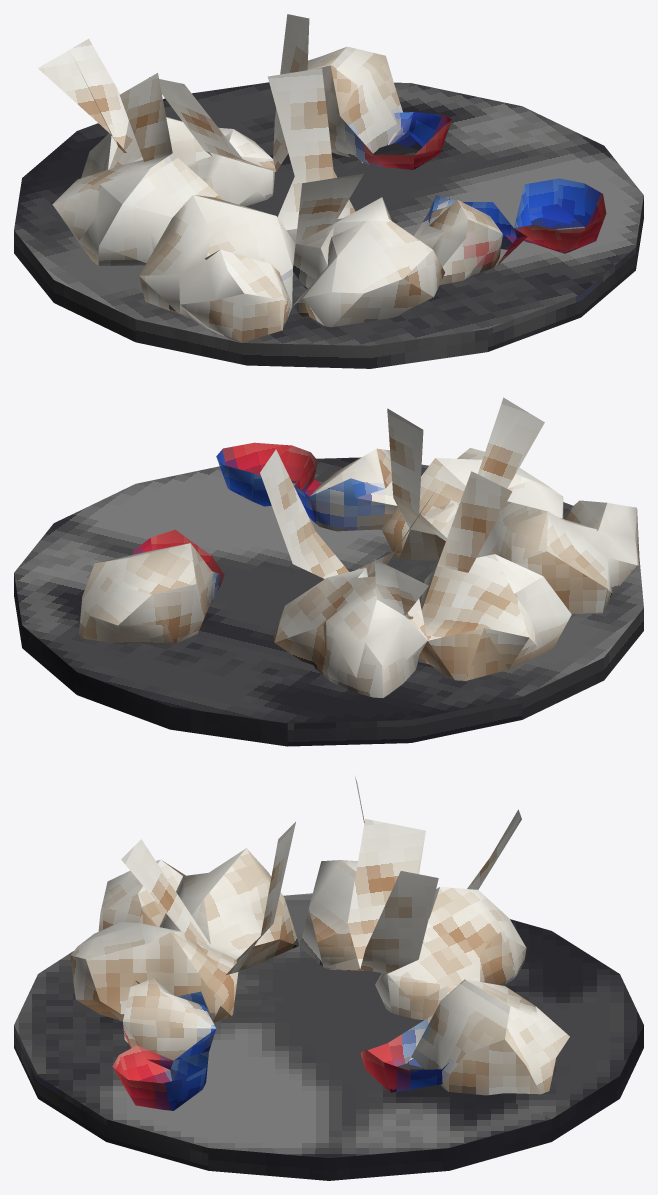
The model's file is binfill_own.glb.
The picture shows the model from 3 angles, top to bottom: view 1: azimuth 30°, elevation 25°; view 2: azimuth 150°, elevation 25°; view 3: azimuth 270°, elevation 25°; orthographic projection.
Parts seen in each view (by area): view 1: mesh; view 2: mesh; view 3: mesh.
Boxes of the visible parts, bbox=[...] form: mesh: bbox=[14, 14, 643, 368]; mesh: bbox=[14, 397, 643, 746]; mesh: bbox=[14, 776, 643, 1180].
Size of the model in its own units: 0.1556 by 0.06 by 0.1556.
Materials: 1 (1 with a texture image).
